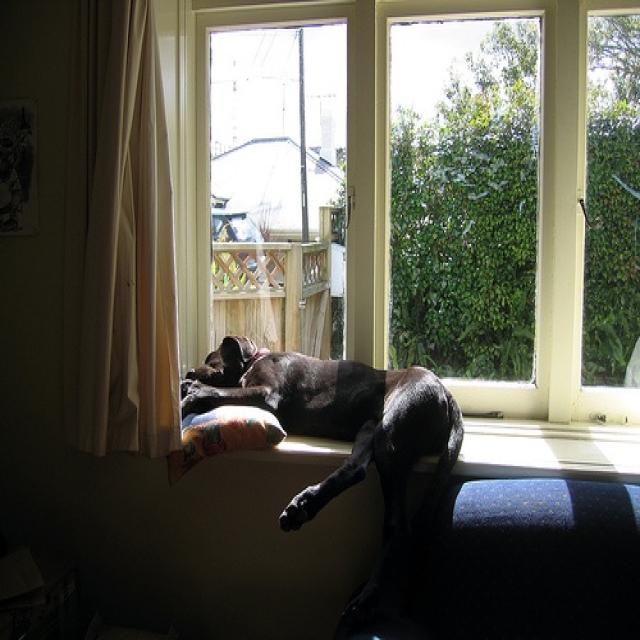dog: (181, 328, 467, 541)
